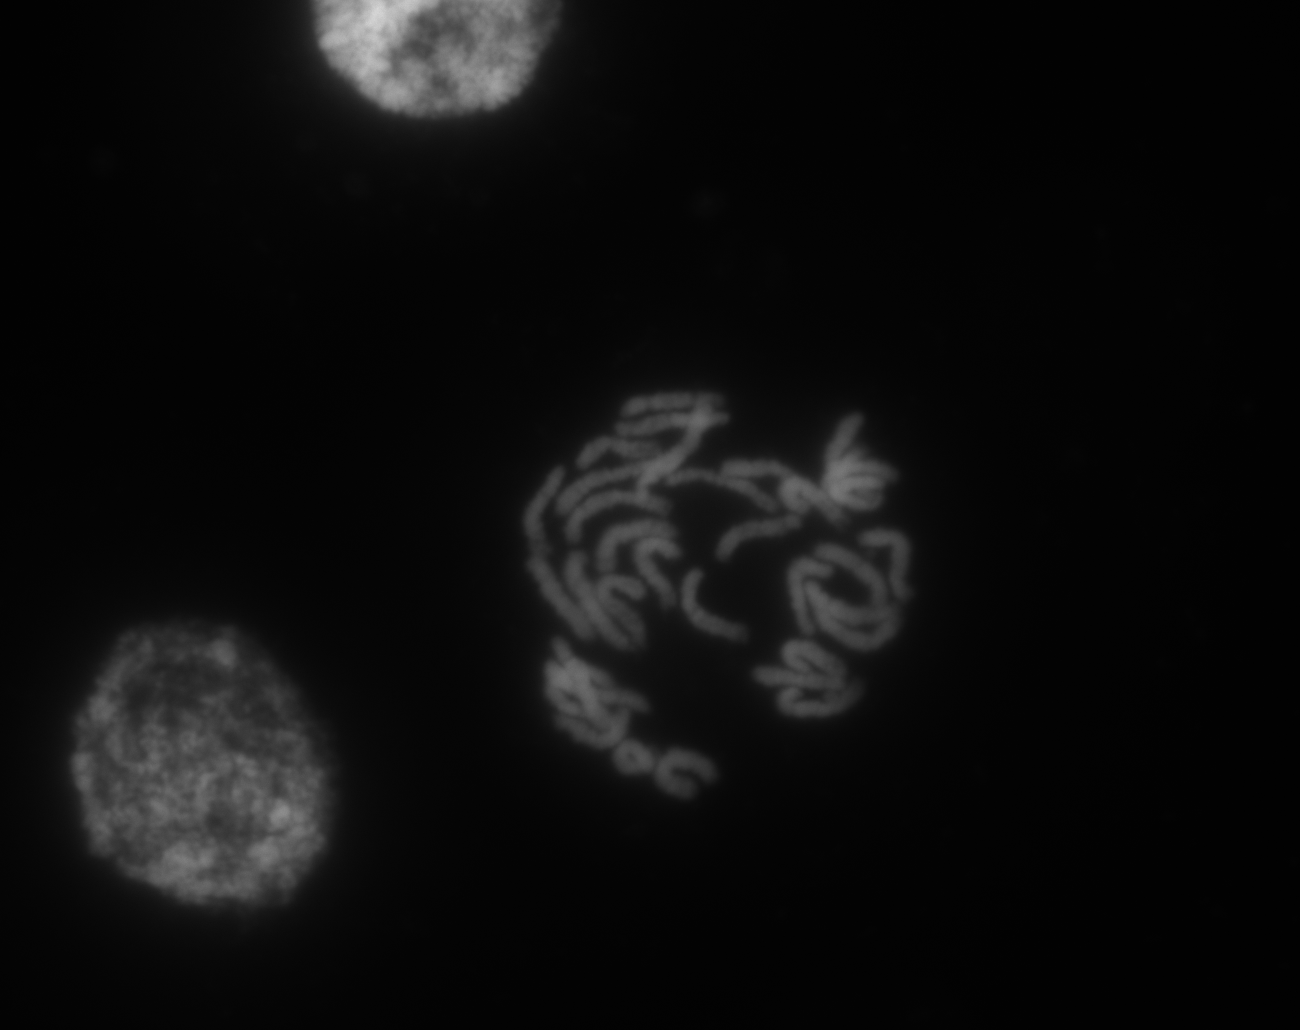Chromosomes: (484, 326, 960, 826)
Others: (28, 574, 386, 943), (268, 1, 592, 142)
